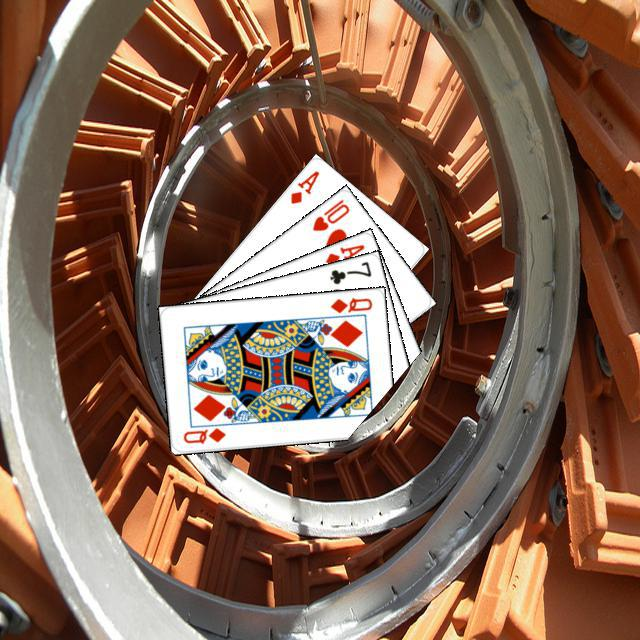10h: (307, 194, 351, 233)
7c: (325, 256, 373, 286)
Ad: (285, 165, 321, 206), (320, 239, 366, 267)
Qd: (178, 423, 227, 446), (326, 293, 374, 315)
